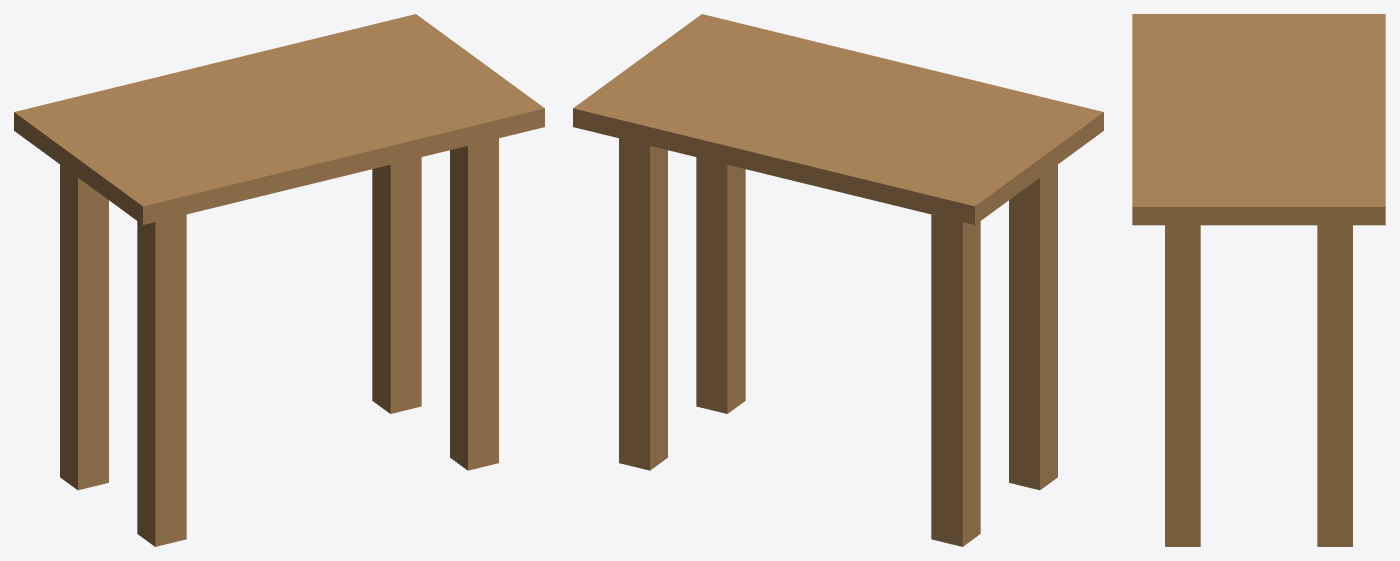
The picture shows the model from 3 angles, left to right: view 1: azimuth 30°, elevation 25°; view 2: azimuth 150°, elevation 25°; view 3: azimuth 270°, elevation 25°; orthographic projection.
Parts seen in each view (by area): view 1: mesa_manicura_0; view 2: mesa_manicura_0; view 3: mesa_manicura_0.
Part boxes in pixels (x1,y1,x2,y2): mesa_manicura_0: (14,14,544,546); mesa_manicura_0: (573,14,1103,546); mesa_manicura_0: (1132,14,1385,546).
Bounding box in the file's own units: 0.9 × 0.5 × 0.77.
